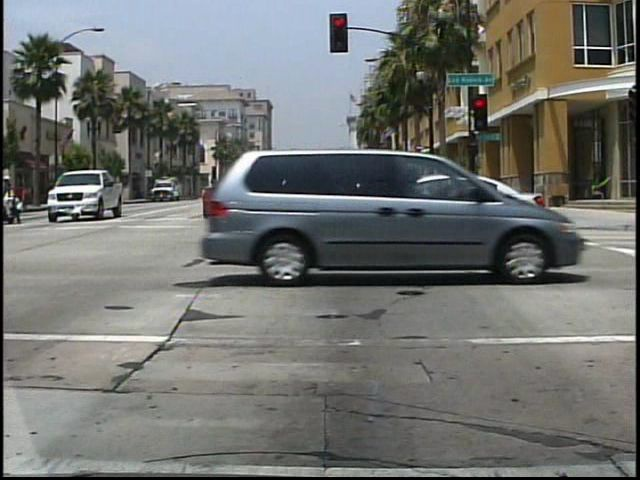person: (3, 170, 31, 229)
